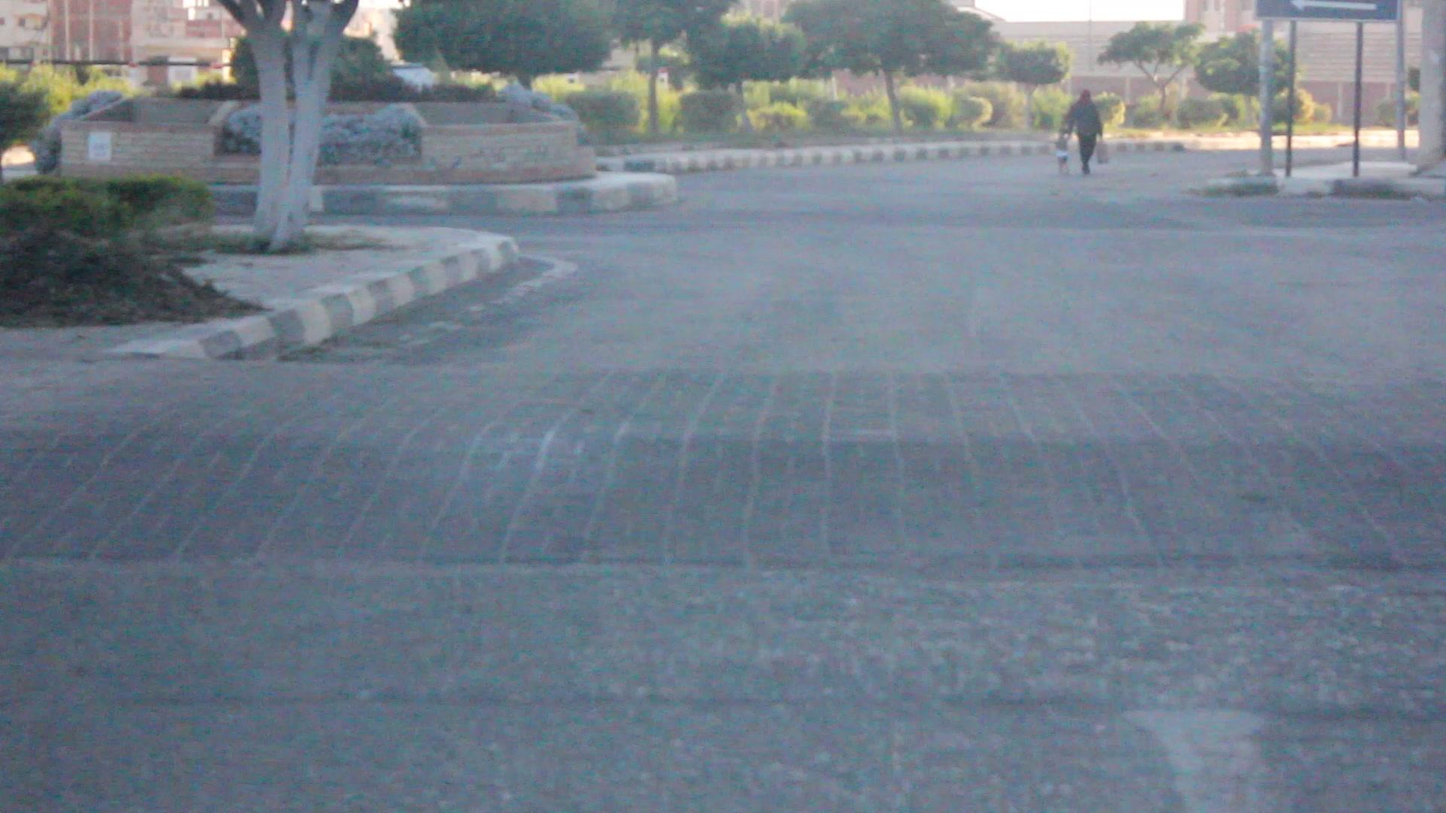Bump: (0, 356, 1446, 570)
